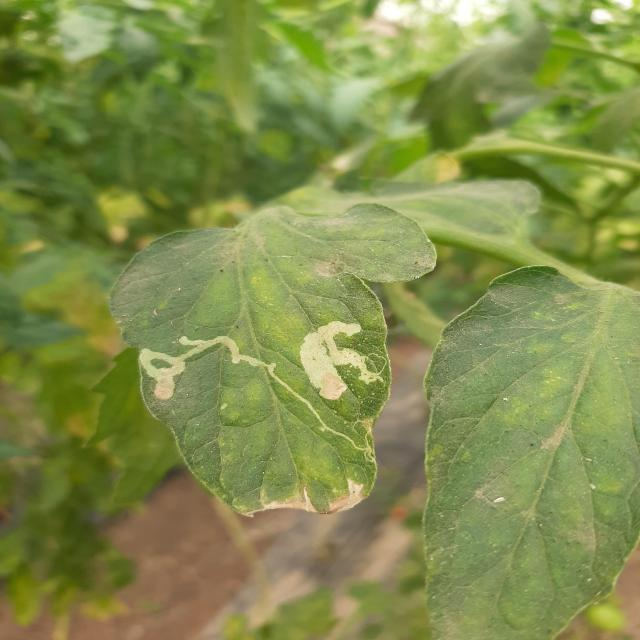Tuta absoluta: (132, 320, 358, 436), (291, 312, 383, 407)
